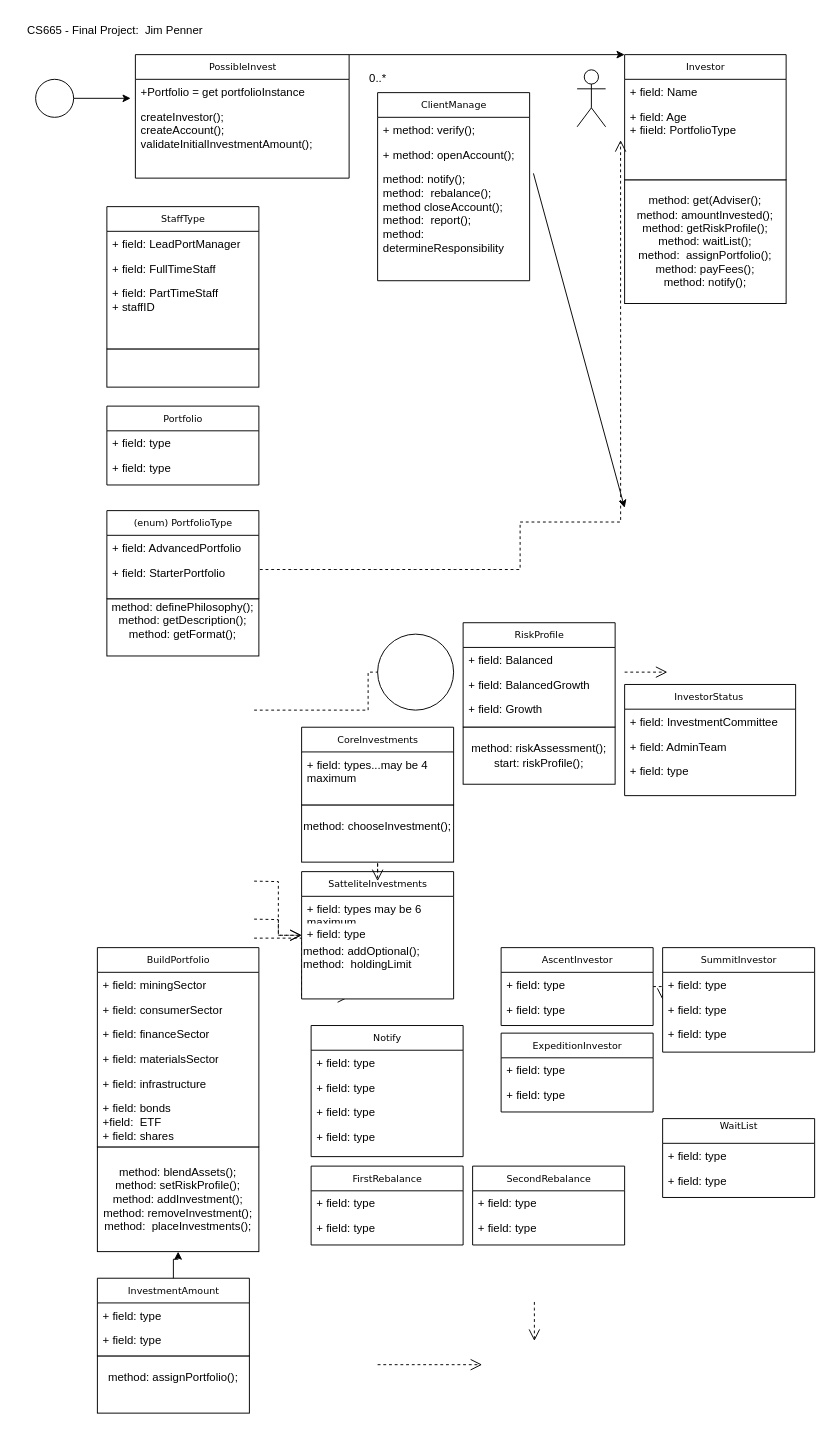
Image size: 831x1430. Some labels were removed from this diagram. The shapes that lost their labels are listed below. From the top down, each one's centre as x and y in pixels, then its label:
At pixel 591 98: "Actor".
At pixel 182 367: "method: notify(); method: rebalance();".
